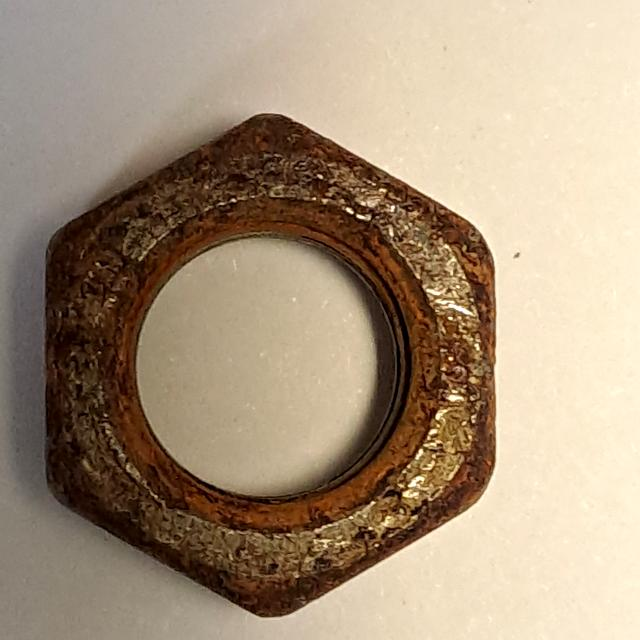Rust: (32, 83, 508, 637)
